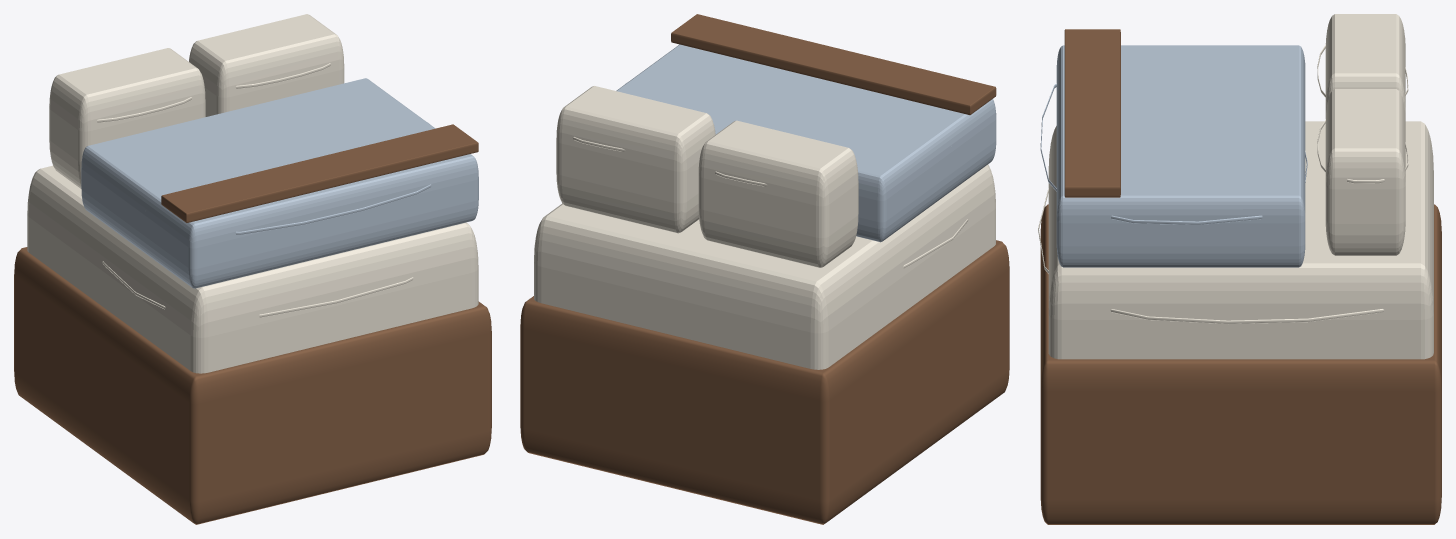
Rendered from bed-2-5.glb.
3 views of the same model, side by side, from view 1: azimuth 30°, elevation 25°; view 2: azimuth 150°, elevation 25°; view 3: azimuth 270°, elevation 25° (orthographic). The views are drawn at different scales.
Parts seen in each view (by area): view 1: tailored-cushion (×2), part; view 2: tailored-cushion (×2), part; view 3: tailored-cushion (×2), part.
Boxes of the visible parts, x1,y1,x2,y2 form: tailored-cushion (×2): (27,14,478,373); part: (14,124,491,524); tailored-cushion (×2): (534,44,996,369); part: (520,14,1009,524); tailored-cushion (×2): (1038,14,1433,359); part: (1040,29,1441,524).
Bounding box in the file's own units: 1 × 1 × 1.
